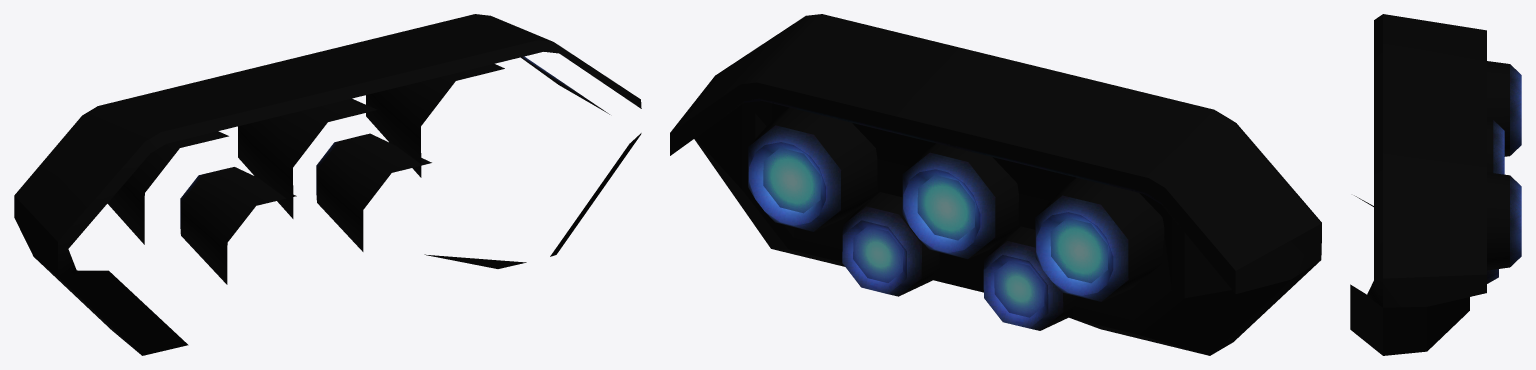
File: engine_hgn_carrier_02_ion_03_t1.glb
3 renders of one model, left to right at view 1: azimuth 30°, elevation 25°; view 2: azimuth 150°, elevation 25°; view 3: azimuth 270°, elevation 25°, orthographic. The views are drawn at different scales.
Parts seen in each view (by area): view 1: carrier_01_engine_l; view 2: carrier_01_engine_l; view 3: carrier_01_engine_l.
Part boxes in pixels (x1,y1,x2,y2): carrier_01_engine_l: [14, 14, 641, 355]; carrier_01_engine_l: [670, 14, 1321, 355]; carrier_01_engine_l: [1350, 14, 1521, 355].
Bounding box in the file's own units: 2.42 × 0.8698 × 0.7453.
Materials: 1 (1 with a texture image).
